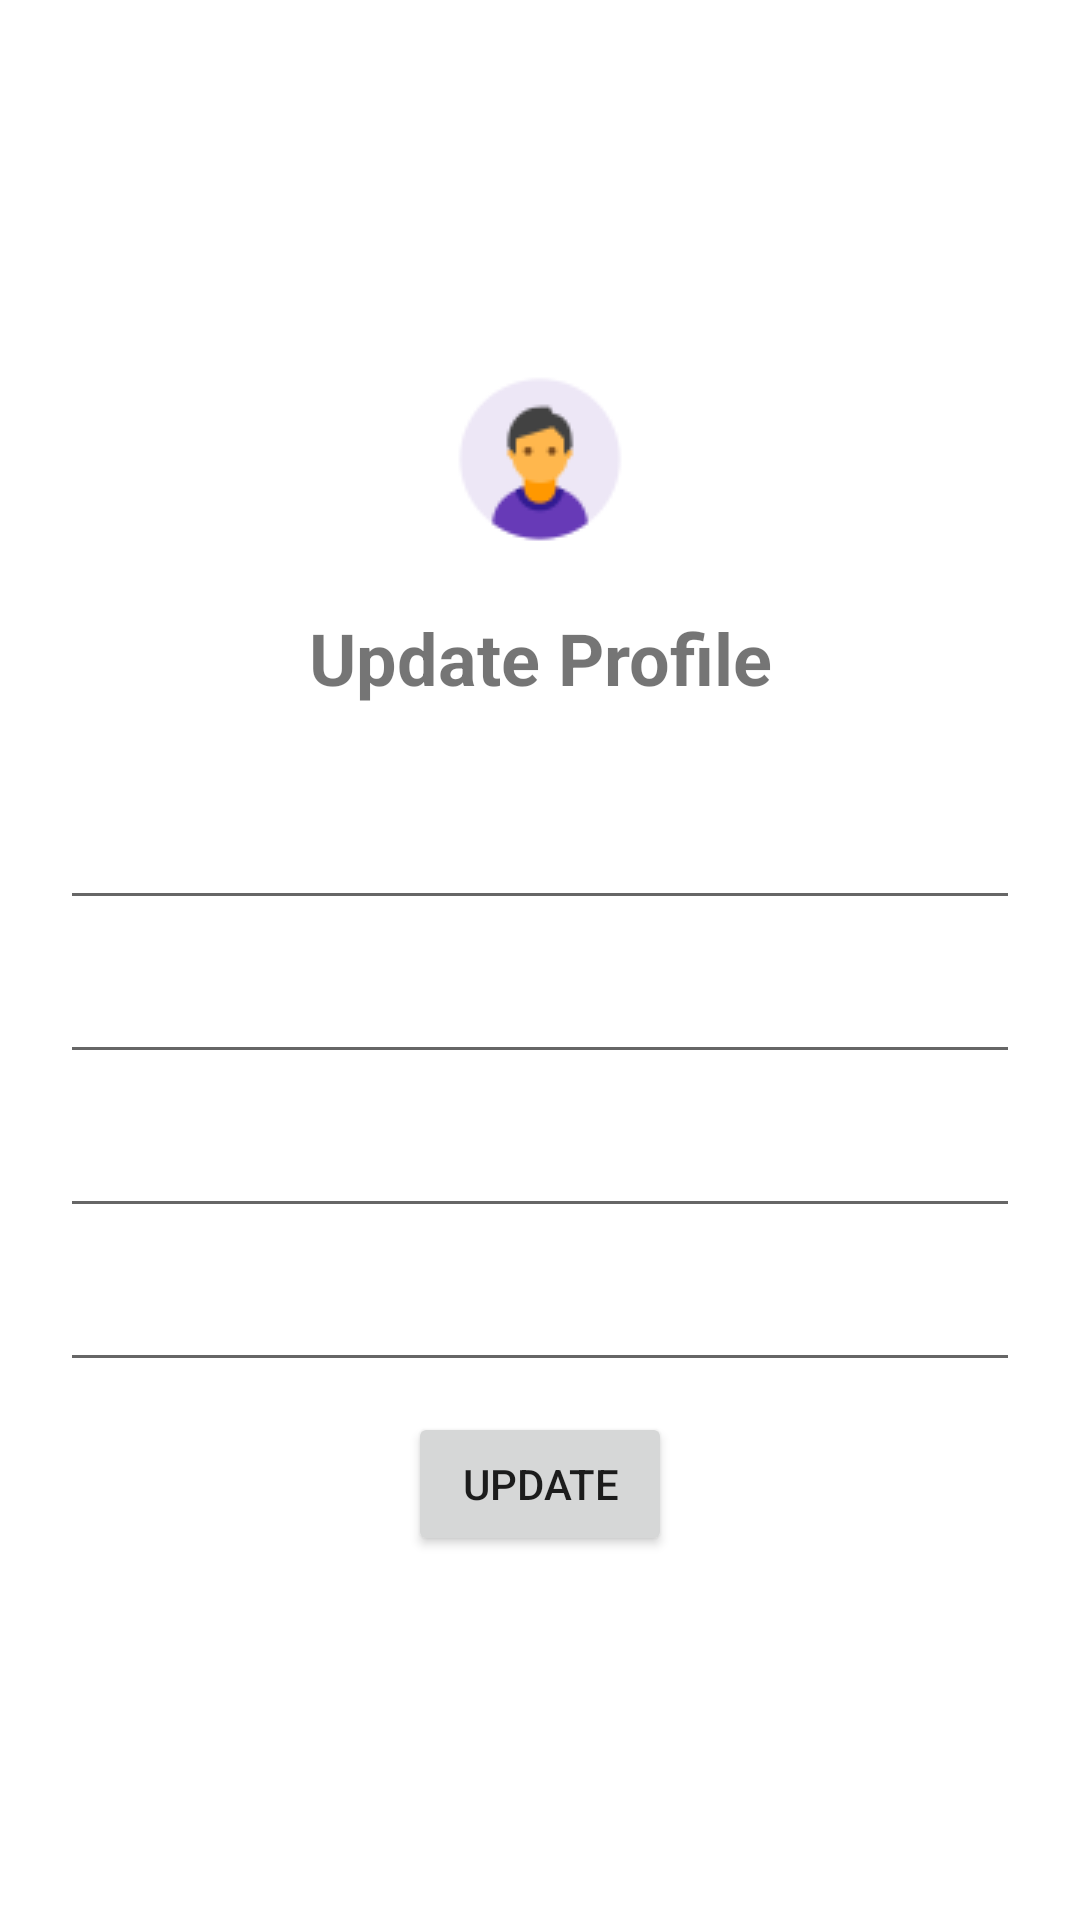

Point at icon controls on the screen. Image size 1080×1920, points as (x=x, y=y).
user: (x=540, y=472)
